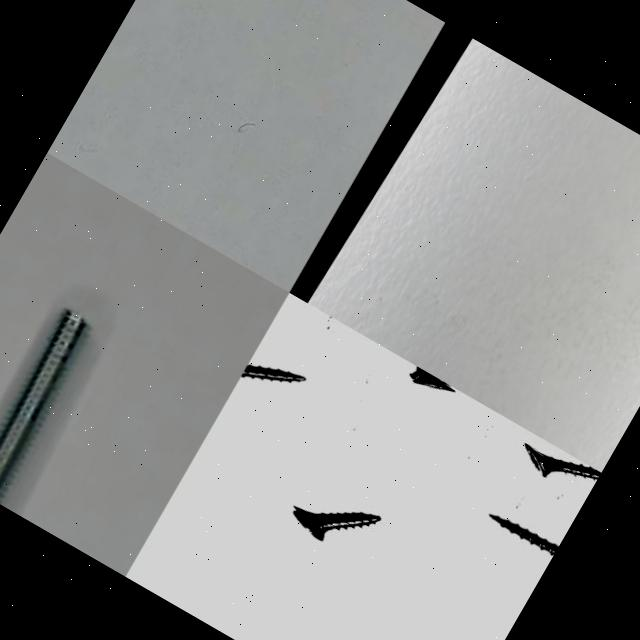Screw: (0, 310, 84, 488), (293, 508, 382, 542), (525, 444, 601, 481), (490, 516, 558, 556), (410, 366, 456, 392), (240, 365, 305, 383)
